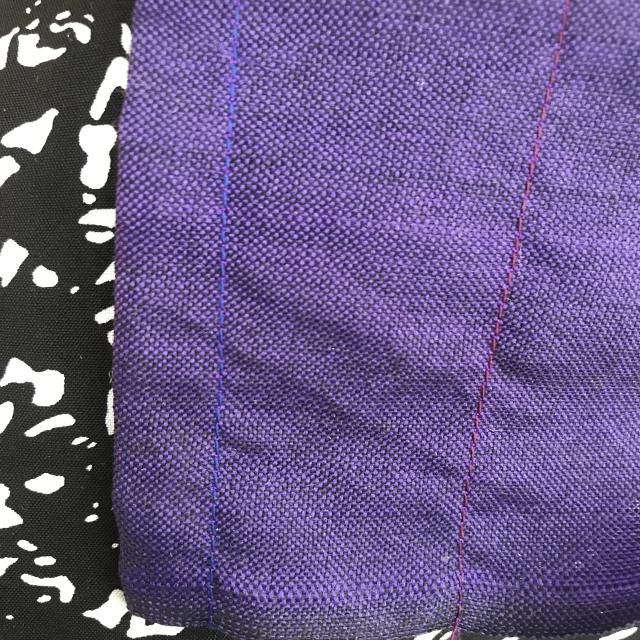good: (201, 226, 237, 473), (466, 348, 495, 483), (446, 509, 487, 595), (524, 117, 541, 209)
